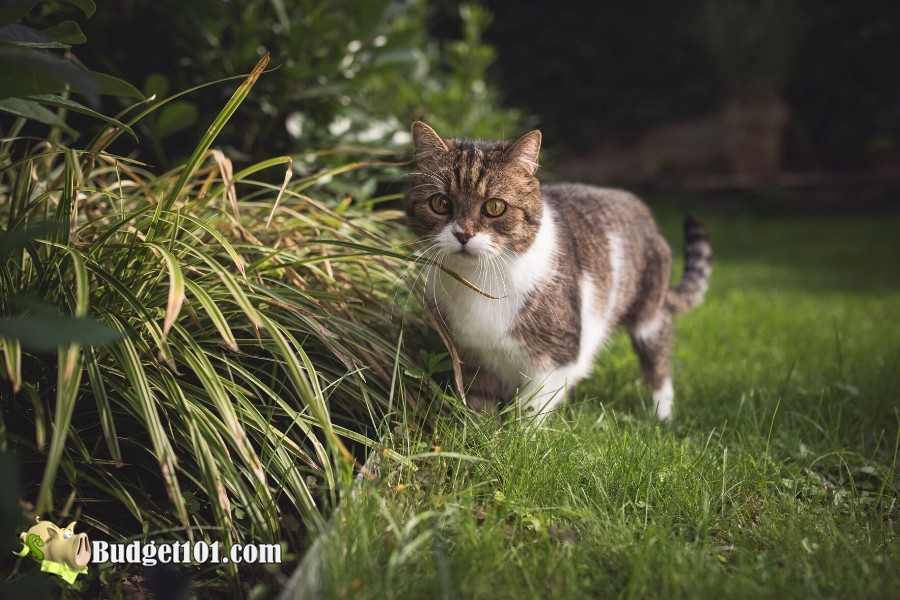cat: (399, 117, 712, 428)
